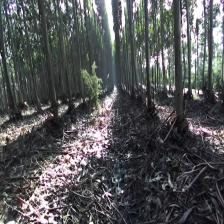trunk: (40, 16, 59, 121), (172, 4, 184, 120), (60, 24, 73, 107), (74, 16, 85, 104), (144, 7, 152, 106), (207, 9, 214, 96), (186, 17, 192, 94)
